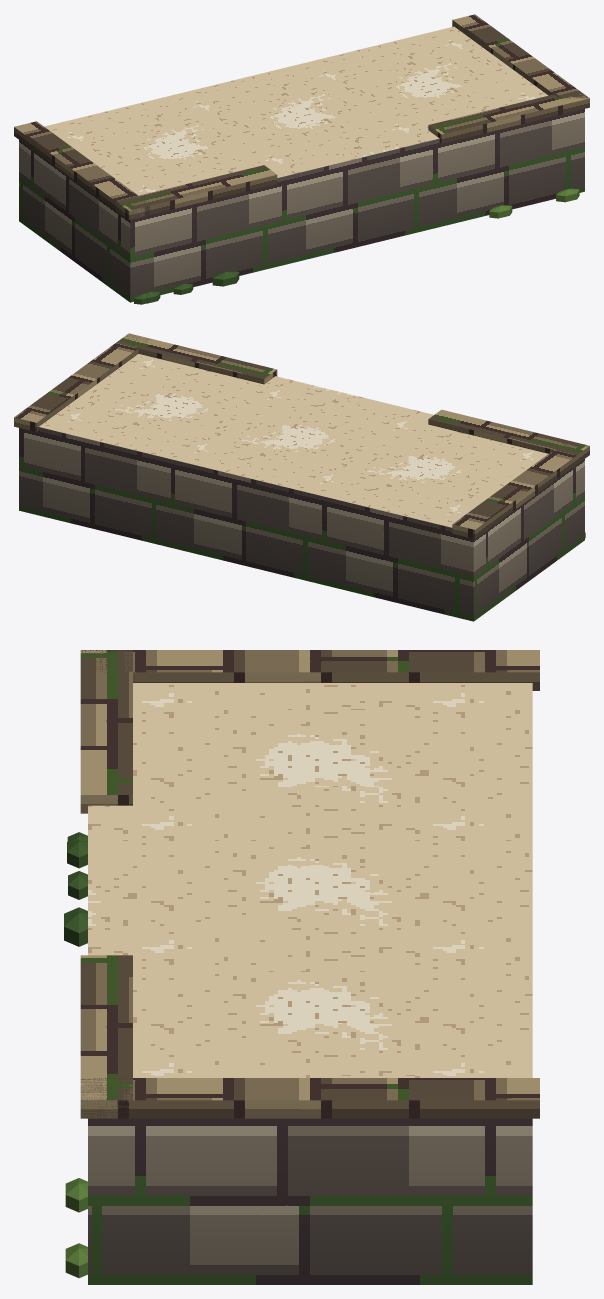
Rendered from scene_seat_dais.glb.
The picture shows the model from 3 angles, top to bottom: view 1: azimuth 30°, elevation 25°; view 2: azimuth 150°, elevation 25°; view 3: azimuth 270°, elevation 25°; orthographic projection. The views are drawn at different scales.
Visible parts, largest first — view 1: scene_seat_dais; view 2: scene_seat_dais; view 3: scene_seat_dais.
Part boxes in pixels (box(x1,y1,x2,y2)): scene_seat_dais: box(14, 14, 589, 304); scene_seat_dais: box(14, 333, 589, 621); scene_seat_dais: box(64, 650, 539, 1284).
Size of the model in its own units: 7.3 by 1.48 by 3.26.
3 materials, 2 textured.
